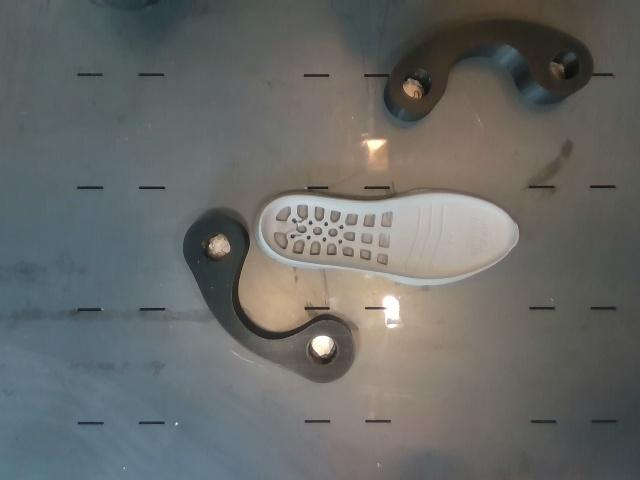shoes: (259, 194, 519, 280)
